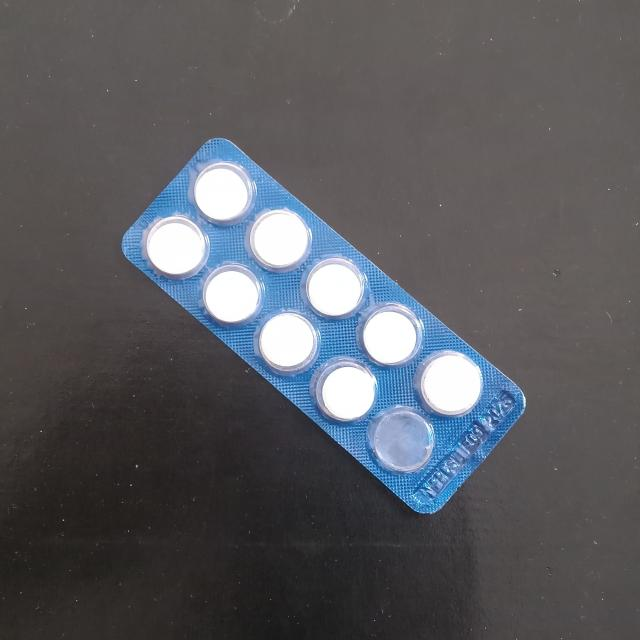defect: (369, 408, 434, 472)
